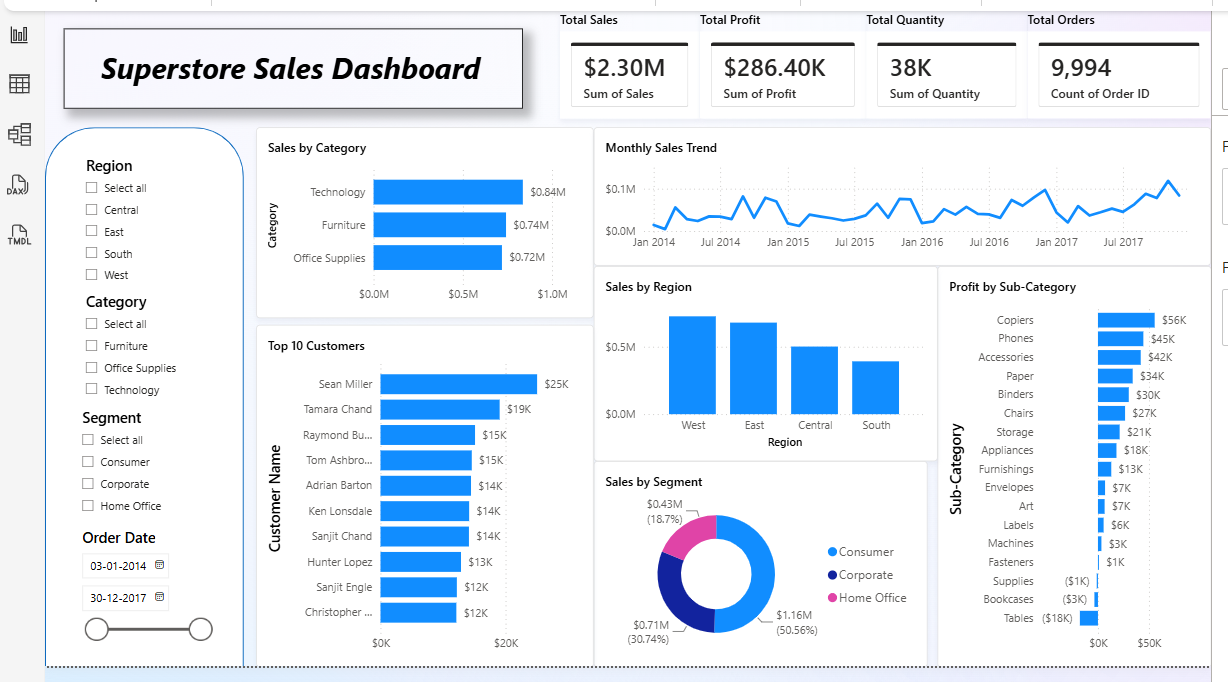

This screenshot's page, from the dashboard's own definition file:
{"tool":"powerbi","page":{"name":"Page 1","canvas":[1280,720],"ordinal":0},"visuals":[{"type":"shape","box":[0,127.6,218.2,592.8],"z":0},{"type":"cardVisual","title":"Total Sales","fields":{"Data":["Sum(Sample - Superstore.Sales)"]},"box":[565.4,0,153.7,118],"z":1000},{"type":"cardVisual","title":"Total Profit","fields":{"Data":["Sum(Sample - Superstore.Profit)"]},"box":[719,0,182.5,118],"z":2000},{"type":"cardVisual","title":"Total Quantity","fields":{"Data":["Sum(Sample - Superstore.Quantity)"]},"box":[901.5,0,177,118],"z":3000},{"type":"cardVisual","title":"Total Orders","fields":{"Data":["CountNonNull(Sample - Superstore.Order ID)"]},"box":[1078.6,0,201.7,118],"z":4000},{"type":"clusteredBarChart","title":"Sales by Category","fields":{"Category":["Sample - Superstore.Category"],"Y":["Sum(Sample - Superstore.Sales)"]},"box":[231.9,127.6,370.5,209.9],"z":5000},{"type":"lineChart","title":"Monthly Sales Trend","fields":{"Y":["Sum(Sample - Superstore.Sales)"],"Category":["Sample - Superstore.Order Date.Variation.Date Hierarchy.Year","Sample - Superstore.Order Date.Variation.Date Hierarchy.Month"]},"box":[602.4,127.6,677.9,152.3],"z":6000},{"type":"clusteredBarChart","title":"Profit by Sub-Category","fields":{"Y":["Sum(Sample - Superstore.Profit)"],"Category":["Sample - Superstore.Sub-Category"]},"box":[979.8,279.9,300.5,440.5],"z":7000},{"type":"clusteredColumnChart","title":"Sales by Region","fields":{"Category":["Sample - Superstore.Region"],"Y":["Sum(Sample - Superstore.Sales)"]},"box":[602.4,279.9,377.4,214.1],"z":8000},{"type":"donutChart","title":"Sales by Segment","fields":{"Category":["Sample - Superstore.Segment"],"Y":["Sum(Sample - Superstore.Sales)"]},"box":[602.4,494,366.4,226.4],"z":9000},{"type":"slicer","fields":{"Values":["Sample - Superstore.Region"]},"box":[37,157.8,98.8,149.6],"z":10000},{"type":"slicer","fields":{"Values":["Sample - Superstore.Category"]},"box":[37,307.4,153.7,120.8],"z":11000},{"type":"slicer","fields":{"Values":["Sample - Superstore.Segment"]},"box":[32.9,435,153.7,131.7],"z":12000},{"type":"slicer","fields":{"Values":["Sample - Superstore.Order Date"]},"box":[32.9,566.7,153.7,153.7],"z":13000},{"type":"clusteredBarChart","title":"Top 10 Customers","fields":{"Category":["Sample - Superstore.Customer Name"],"Y":["Sum(Sample - Superstore.Sales)"]},"box":[231.9,344.4,370.5,376],"z":13001},{"type":"textbox","box":[20.6,19.2,503.6,87.8],"z":13002}]}

Visuals, with their boxes on the page's 1280x720 design canvas (x1, y1, x2, y2). These are canvas units, not pixel positions in the 1228x682 screenshot, which may show the page scaled, cropped or inside an application window:
shape: 0, 128, 218, 720
"Total Sales" cardVisual: 565, 0, 719, 118
"Total Profit" cardVisual: 719, 0, 902, 118
"Total Quantity" cardVisual: 902, 0, 1078, 118
"Total Orders" cardVisual: 1079, 0, 1280, 118
"Sales by Category" clusteredBarChart: 232, 128, 602, 338
"Monthly Sales Trend" lineChart: 602, 128, 1280, 280
"Profit by Sub-Category" clusteredBarChart: 980, 280, 1280, 720
"Sales by Region" clusteredColumnChart: 602, 280, 980, 494
"Sales by Segment" donutChart: 602, 494, 969, 720
slicer - Sample - Superstore.Region: 37, 158, 136, 307
slicer - Sample - Superstore.Category: 37, 307, 191, 428
slicer - Sample - Superstore.Segment: 33, 435, 187, 567
slicer - Sample - Superstore.Order Date: 33, 567, 187, 720
"Top 10 Customers" clusteredBarChart: 232, 344, 602, 720
textbox: 21, 19, 524, 107
